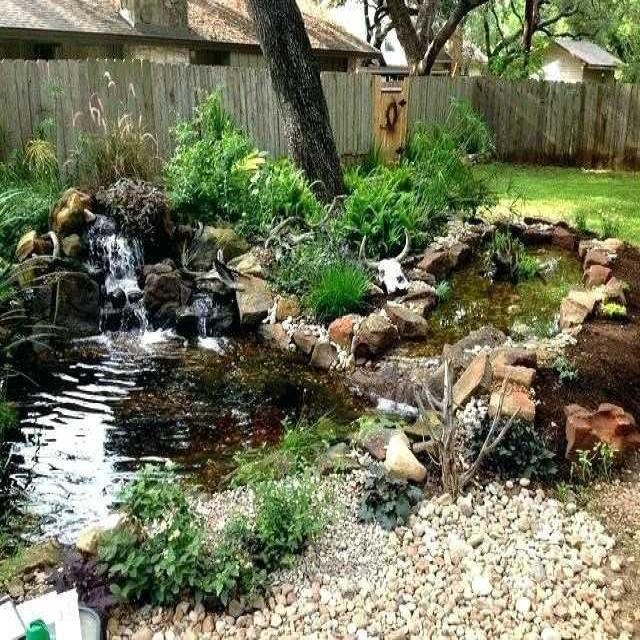Ponds: (1, 180, 627, 601)
